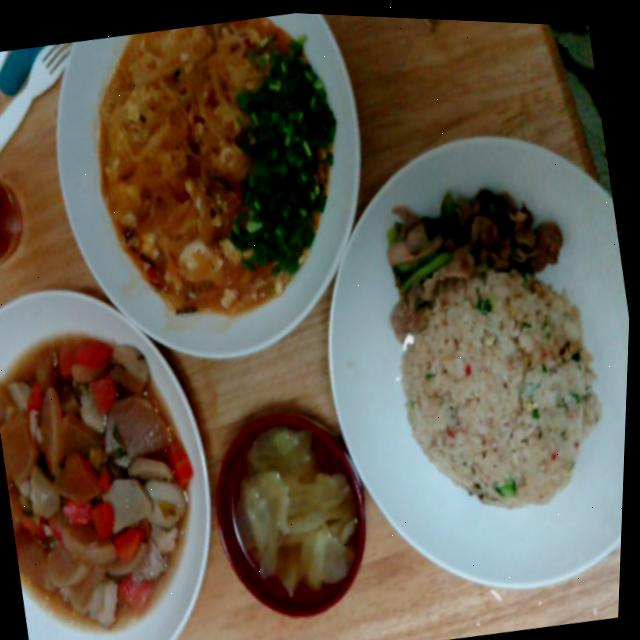汤锅炖物: (198, 396, 405, 640)
米饭主食: (365, 217, 626, 539)
